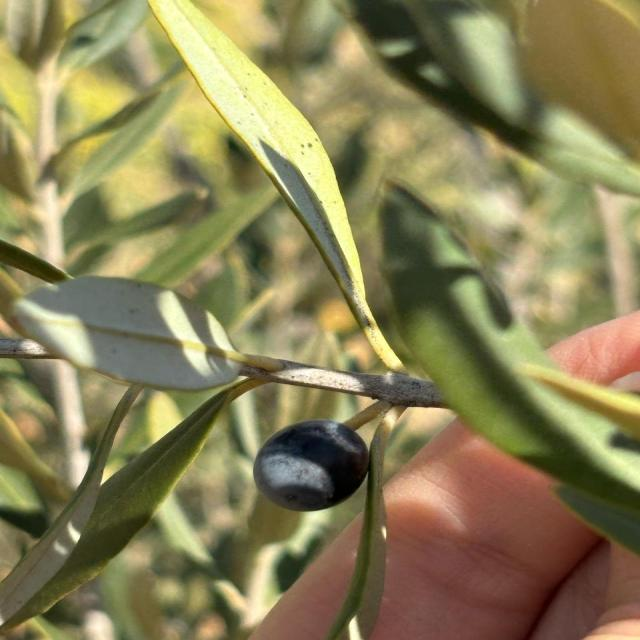Healthy: (148, 0, 379, 334), (0, 381, 245, 634), (14, 277, 276, 390), (253, 401, 389, 512)
